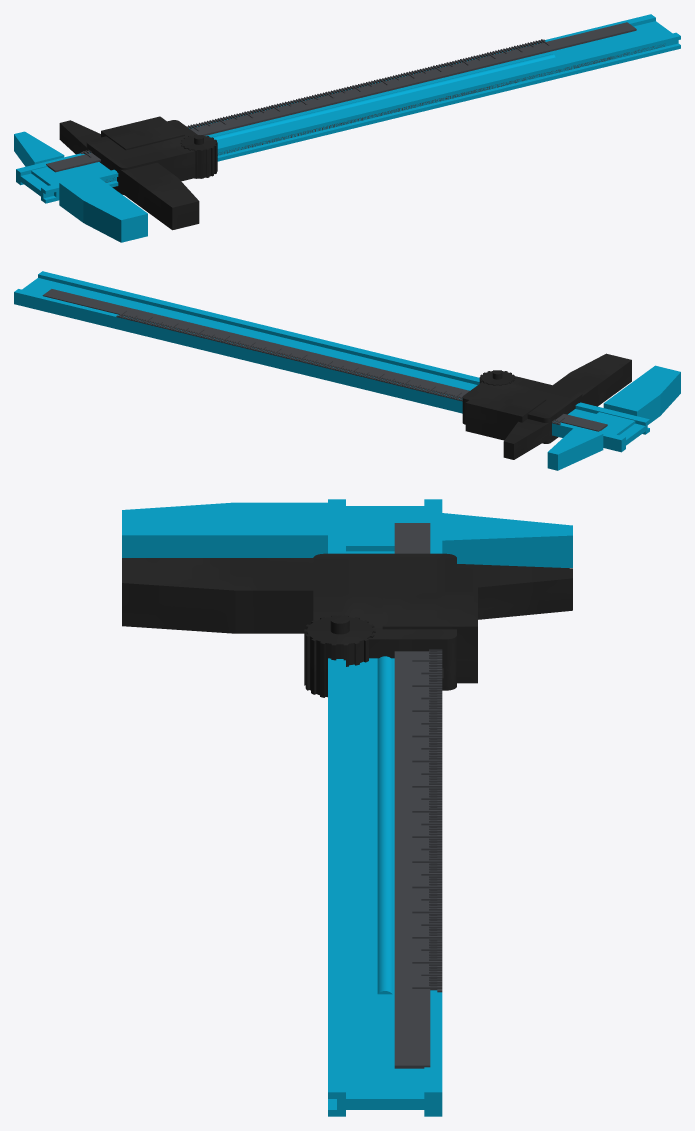
The model's file is Handtools_dial_caliper__0049.glb.
The picture shows the model from 3 angles, top to bottom: view 1: azimuth 30°, elevation 25°; view 2: azimuth 150°, elevation 25°; view 3: azimuth 270°, elevation 25°; orthographic projection. The views are drawn at different scales.
Parts seen in each view (by area): view 1: beam::beam_body, slider::slider_body, beam::fixed_jaw, beam::beam_scale, beam::main_scale_ticks, slider::depth_rod, beam::guide_rail_mark, slider::thumb_roller; view 2: beam::beam_body, slider::slider_body, beam::fixed_jaw, beam::beam_scale, beam::main_scale_ticks, slider::thumb_roller, slider::depth_rod; view 3: slider::slider_body, beam::beam_body, beam::fixed_jaw, beam::beam_scale, beam::main_scale_ticks, slider::depth_rod, slider::thumb_roller.
Part boxes in pixels (bbox=[...]): beam::beam_body: bbox=[16, 14, 680, 203]; slider::slider_body: bbox=[59, 116, 199, 230]; beam::fixed_jaw: bbox=[14, 131, 147, 242]; beam::beam_scale: bbox=[46, 22, 636, 172]; beam::main_scale_ticks: bbox=[80, 39, 549, 157]; slider::depth_rod: bbox=[211, 54, 555, 139]; beam::guide_rail_mark: bbox=[105, 44, 664, 182]; slider::thumb_roller: bbox=[180, 135, 217, 178]; beam::beam_body: bbox=[14, 271, 649, 452]; slider::slider_body: bbox=[462, 353, 631, 459]; beam::fixed_jaw: bbox=[547, 365, 680, 470]; beam::beam_scale: bbox=[42, 289, 607, 431]; beam::main_scale_ticks: bbox=[116, 310, 564, 425]; slider::thumb_roller: bbox=[479, 370, 515, 385]; slider::depth_rod: bbox=[137, 309, 469, 390]; slider::slider_body: bbox=[122, 553, 572, 690]; beam::beam_body: bbox=[328, 499, 442, 1116]; beam::fixed_jaw: bbox=[122, 502, 572, 567]; beam::beam_scale: bbox=[394, 523, 430, 1068]; beam::main_scale_ticks: bbox=[412, 649, 442, 992]; slider::depth_rod: bbox=[377, 656, 392, 994]; slider::thumb_roller: bbox=[304, 615, 375, 697].
Size of the model in its own units: 0.2357 by 0.014 by 0.0758.
5 materials, 1 textured.
